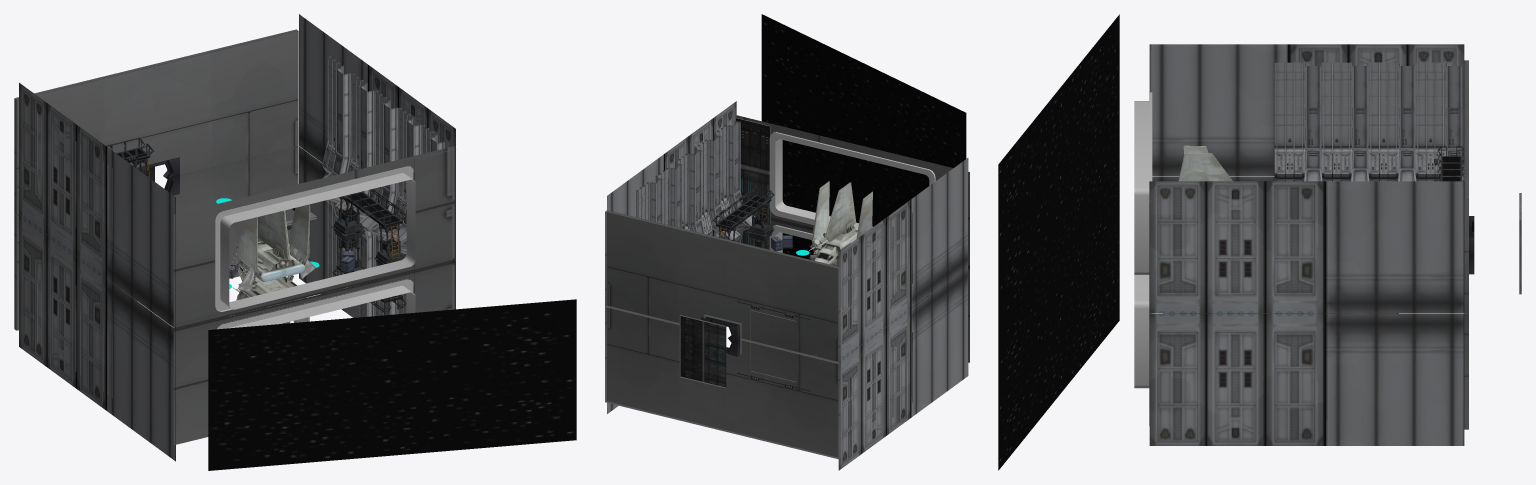
Rendered from env_empire_hangar_pre.glb.
3 views of the same model, side by side, from view 1: azimuth 30°, elevation 25°; view 2: azimuth 150°, elevation 25°; view 3: azimuth 270°, elevation 25° (orthographic). The views are drawn at different scales.
Visible parts, largest first — view 1: hangar_starplane_mesh, hangar_archwall_mesh (×2), hangar_wallplane_mesh (×2), hangar_wallplane_mesh (1) (×2), hangar_entryarch_mesh (×2), hangar_archfrieze_mesh (×2), emp_hangar_pillar_01_dtl_mesh (×5), hangar_imperialshuttle_mesh (×2), hoth_catwalk_mesh (×3), emp_hangar_wall_01_mesh (×5); view 2: hangar_archwall_mesh (×2), hangar_starplane_mesh (×2), hangar_wallplane_mesh (×2), hangar_wallplane_mesh (1), hangar_electropanel_mesh (×3), emp_hangar_pillar_01_dtl_mesh (×5), hangar_imperialshuttle_mesh, hangar_archfrieze_mesh (×2), emp_hangar_wall_01_mesh (×5), hangar_entryarch_mesh (×2), hoth_catwalk_mesh; view 3: hangar_wallplane_mesh (×2), hangar_wallplane_mesh (1), hangar_starplane_mesh (×2), emp_hangar_wall_01_mesh (×4), emp_hangar_pillar_01_dtl_mesh (×4), hangar_archfrieze_mesh (×2), hangar_archwall_mesh (×2), hangar_imperialshuttle_mesh, hoth_catwalk_mesh.
Boxes of the visible parts, x1,y1,x2,y2 form: hangar_starplane_mesh: (208,299,576,470); hangar_archwall_mesh (×2): (14,29,298,330); hangar_wallplane_mesh (×2): (19,14,455,328); hangar_wallplane_mesh (1) (×2): (19,146,455,461); hangar_entryarch_mesh (×2): (173,146,455,445); hangar_archfrieze_mesh (×2): (215,166,415,329); emp_hangar_pillar_01_dtl_mesh (×5): (324,67,421,317); hangar_imperialshuttle_mesh (×2): (233,204,310,323); hoth_catwalk_mesh (×3): (106,137,406,312); emp_hangar_wall_01_mesh (×5): (322,56,414,290); hangar_archwall_mesh (×2): (605,210,840,459); hangar_starplane_mesh (×2): (761,14,966,308); hangar_wallplane_mesh (×2): (607,101,968,359); hangar_wallplane_mesh (1): (838,267,968,470); hangar_electropanel_mesh (×3): (679,117,770,387); emp_hangar_pillar_01_dtl_mesh (×5): (650,120,754,240); hangar_imperialshuttle_mesh: (809,181,872,264); hangar_archfrieze_mesh (×2): (769,132,935,294); emp_hangar_wall_01_mesh (×5): (636,125,731,234); hangar_entryarch_mesh (×2): (736,115,969,362); hoth_catwalk_mesh: (712,187,774,241); hangar_wallplane_mesh (×2): (1149,44,1464,313); hangar_wallplane_mesh (1): (1149,314,1464,445); hangar_starplane_mesh (×2): (998,14,1119,470); emp_hangar_wall_01_mesh (×4): (1274,62,1445,178); emp_hangar_pillar_01_dtl_mesh (×4): (1304,63,1463,181); hangar_archfrieze_mesh (×2): (1134,92,1152,388); hangar_archwall_mesh (×2): (1464,60,1468,429); hangar_imperialshuttle_mesh: (1178,145,1232,181); hoth_catwalk_mesh: (1434,146,1464,181).
Bounding box in the file's own units: 74.31 × 66.29 × 103.
17 materials, 17 textured.
